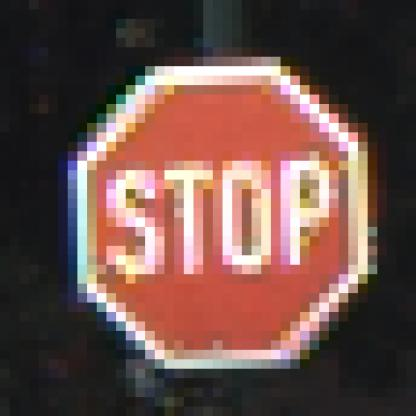Stop: (78, 71, 362, 366)
